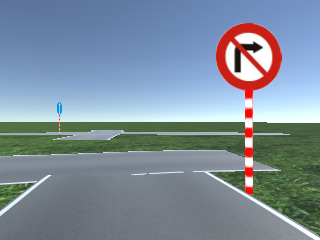-5: (1, 201, 320, 239)
NoRight: (216, 22, 283, 90)
